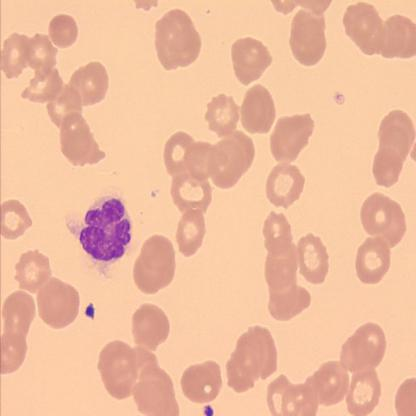Segmented neutrophil: (65, 184, 136, 281)
